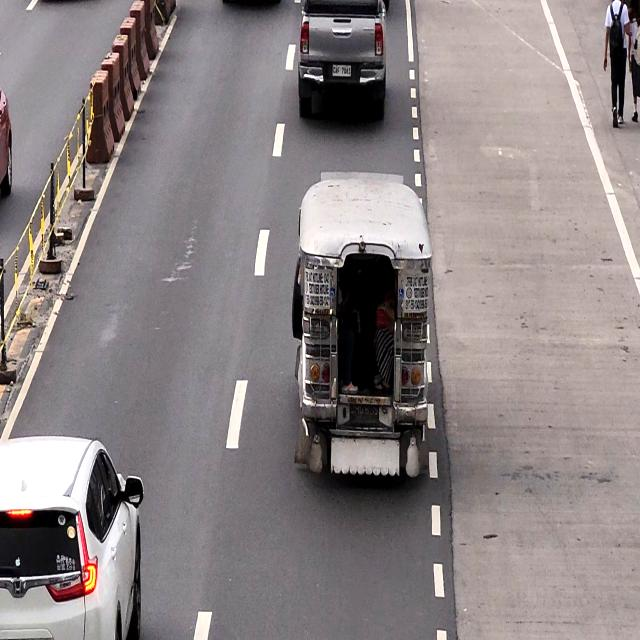Car: (0, 427, 141, 640), (302, 0, 387, 119)
Jeep: (301, 175, 425, 484)
License-Plate: (332, 61, 353, 80)
